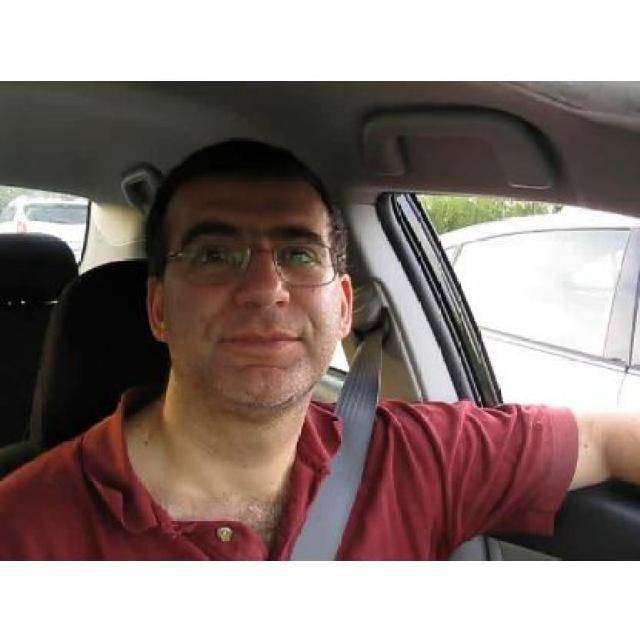attentif: (146, 136, 352, 410)
